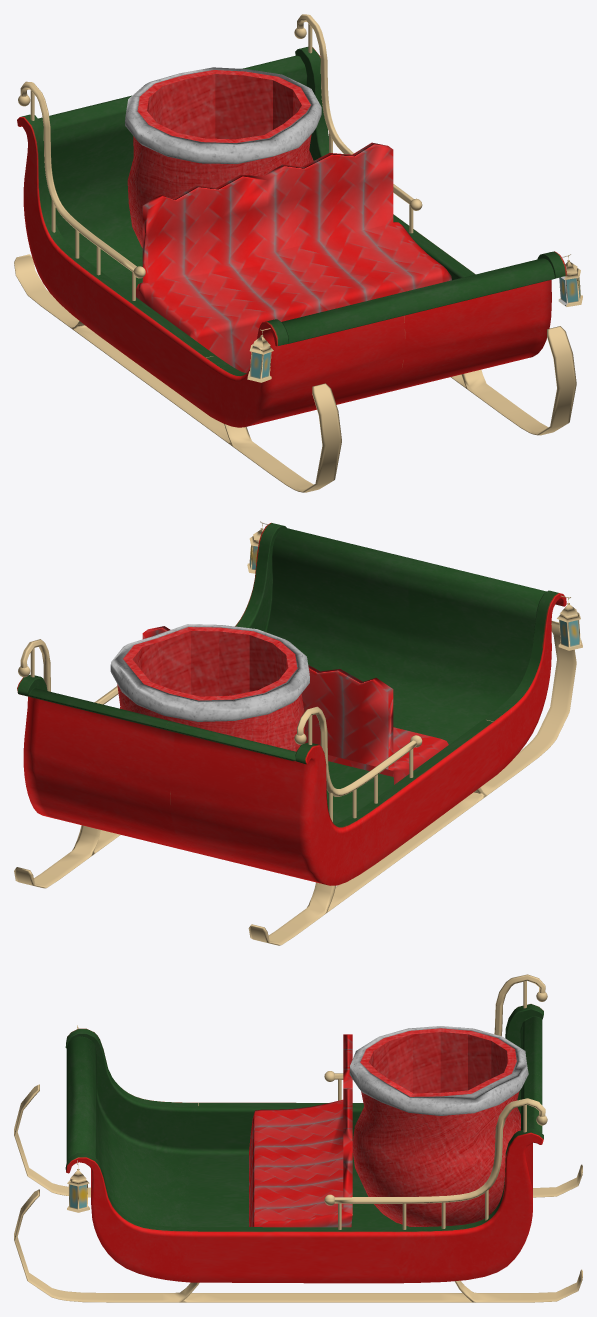
File: Christmas_Sled.fbx
3 renders of one model, top to bottom at view 1: azimuth 30°, elevation 25°; view 2: azimuth 150°, elevation 25°; view 3: azimuth 270°, elevation 25°, orthographic. The views are drawn at different scales.
Visible parts, largest first — view 1: polySurface8; view 2: polySurface8; view 3: polySurface8.
Part boxes in pixels (x1,y1,x2,y2): polySurface8: [14, 14, 582, 492]; polySurface8: [14, 521, 582, 945]; polySurface8: [14, 974, 582, 1302].
Bounding box in the file's own units: 442 × 289 × 708.
1 material, 1 textured.
